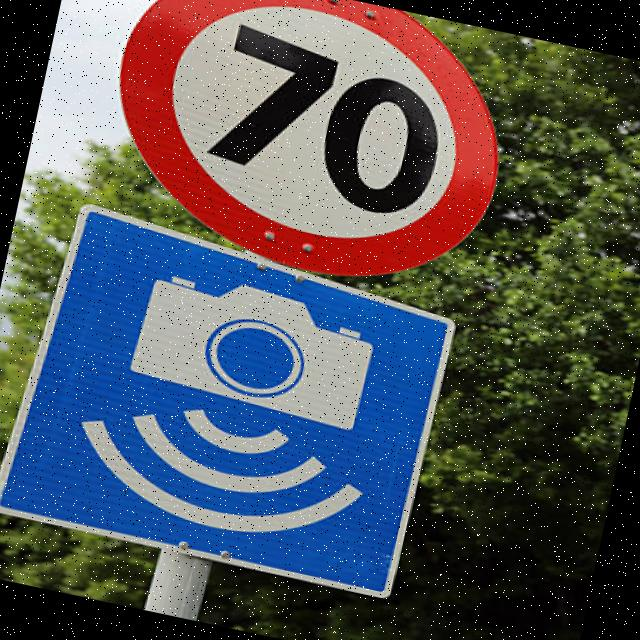speed_limit_70: (82, 0, 568, 309)
